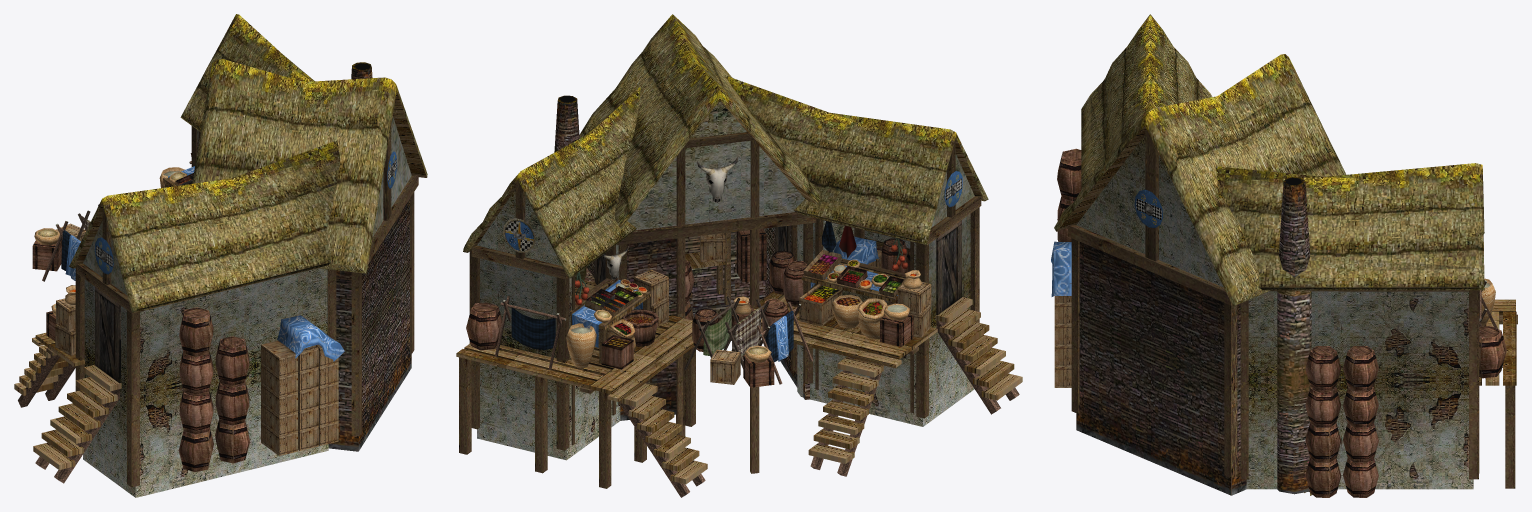
File: gaul_market.glb
3 views of the same model, side by side, from view 1: azimuth 30°, elevation 25°; view 2: azimuth 150°, elevation 25°; view 3: azimuth 270°, elevation 25° (orthographic). The views are drawn at different scales.
Parts seen in each view (by area): view 1: gaul_market_part0, gaul_market_part1, gaul_market_part2; view 2: gaul_market_part0, gaul_market_part1, gaul_market_part2; view 3: gaul_market_part0, gaul_market_part1, gaul_market_part2.
Part boxes in pixels (x1,y1,x2,y2): gaul_market_part0: (14,14,427,497); gaul_market_part1: (18,153,344,483); gaul_market_part2: (77,151,396,274); gaul_market_part0: (456,14,1022,488); gaul_market_part1: (466,220,1019,497); gaul_market_part2: (503,157,962,369); gaul_market_part0: (1054,14,1517,495); gaul_market_part1: (1051,148,1506,497); gaul_market_part2: (1134,189,1162,227).
Size of the model in its own units: 4.2 by 3.81 by 3.78.
3 materials, 3 textured.
